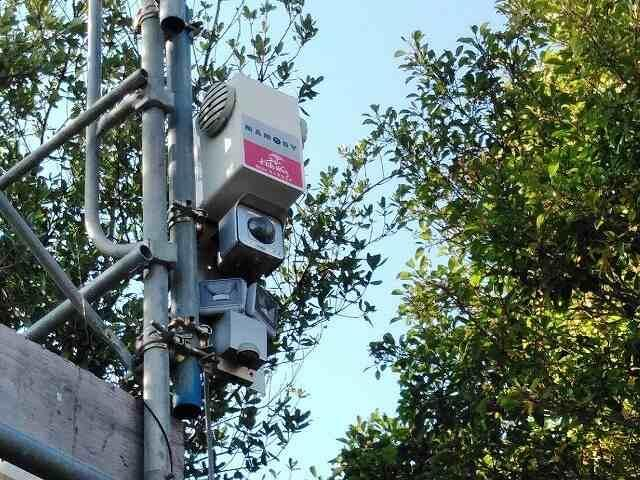tutu: (223, 197, 294, 288)
